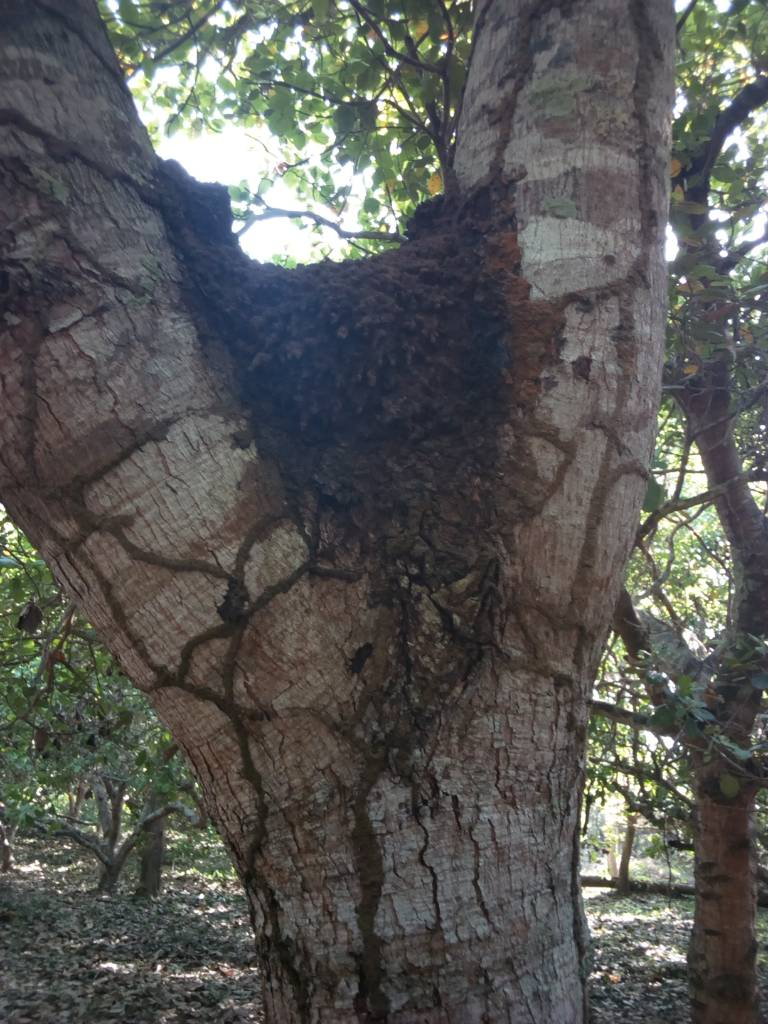Termites: (165, 157, 532, 535), (238, 600, 450, 1024)
